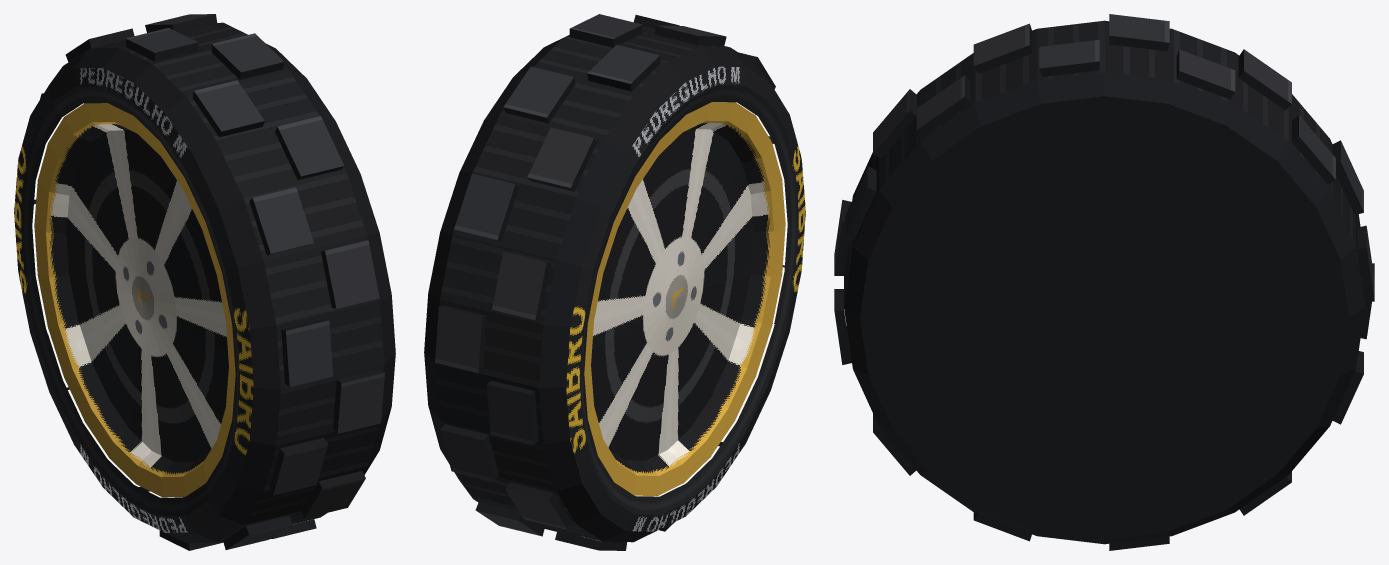
The model's file is lumiar_estrela_18_com_saibro_pedregulho_m_direita.glb.
3 views of the same model, side by side, from view 1: azimuth 30°, elevation 25°; view 2: azimuth 150°, elevation 25°; view 3: azimuth 270°, elevation 25° (orthographic). The views are drawn at different scales.
Visible parts, largest first — view 1: lumiar_estrela_18_com_saibro_pedregulho_m_direita; view 2: lumiar_estrela_18_com_saibro_pedregulho_m_direita; view 3: lumiar_estrela_18_com_saibro_pedregulho_m_direita.
Part boxes in pixels (x1,y1,x2,y2): lumiar_estrela_18_com_saibro_pedregulho_m_direita: [14, 14, 395, 550]; lumiar_estrela_18_com_saibro_pedregulho_m_direita: [424, 14, 805, 550]; lumiar_estrela_18_com_saibro_pedregulho_m_direita: [834, 14, 1374, 550].
Size of the model in its own units: 0.2119 by 0.6665 by 0.6665.
2 materials, 2 textured.
